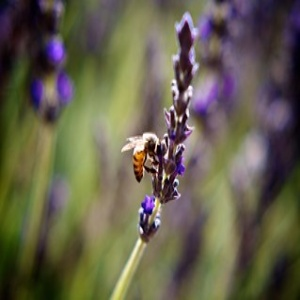bee: (121, 132, 161, 186)
